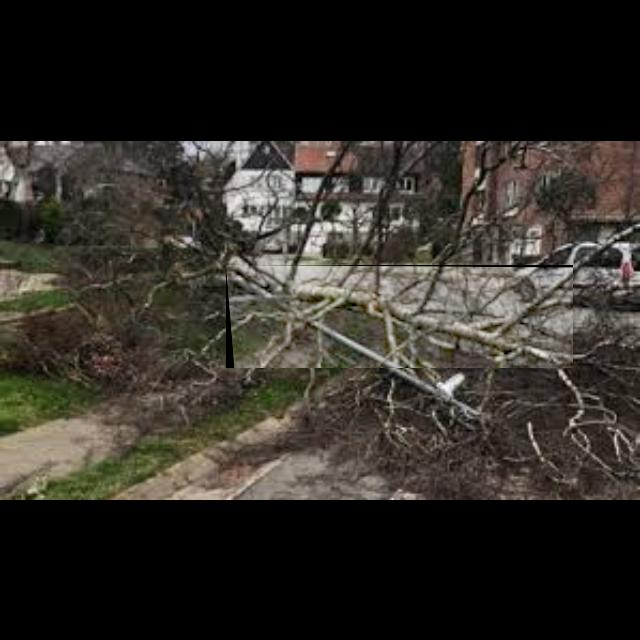Fallen Tree: (226, 265, 574, 369)
